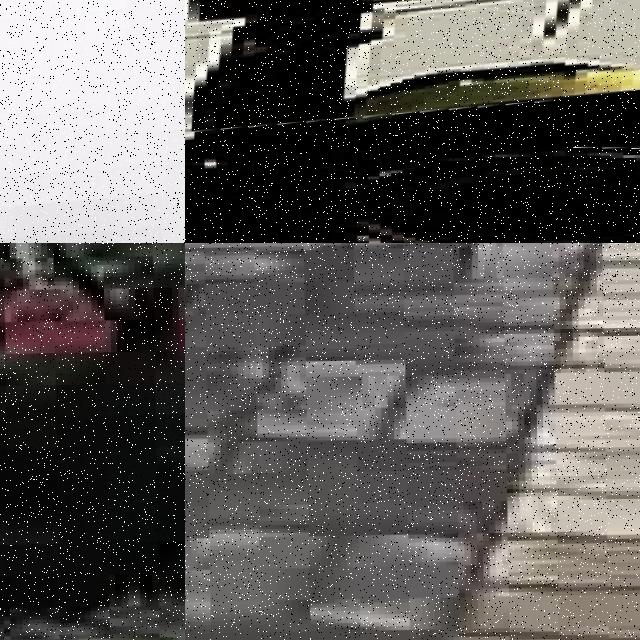drone: (185, 0, 640, 154), (0, 0, 185, 243)
